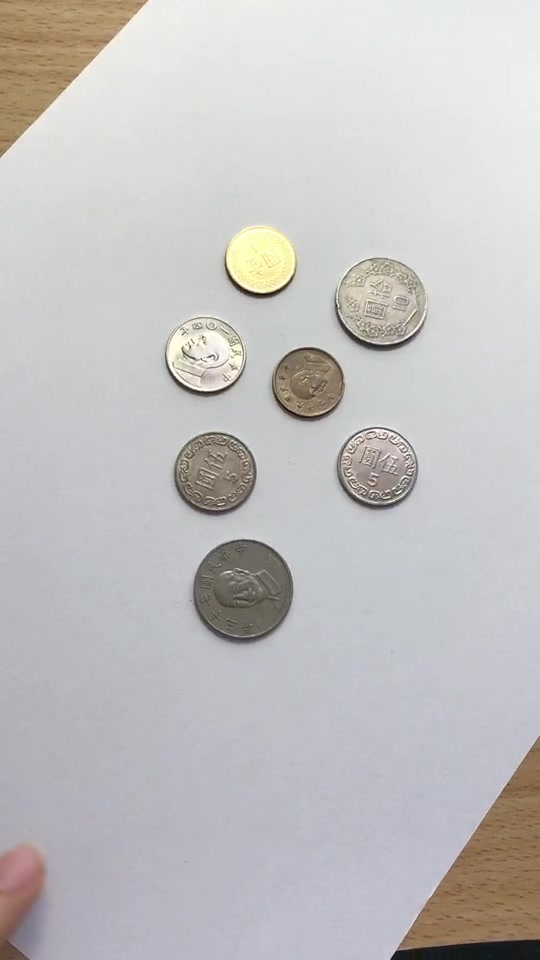1 dallar: (218, 221, 305, 300), (265, 343, 352, 422)
10 dallar: (184, 534, 303, 646), (326, 251, 436, 354)
5 dallar: (159, 312, 249, 397), (170, 429, 260, 514), (332, 424, 422, 509)
